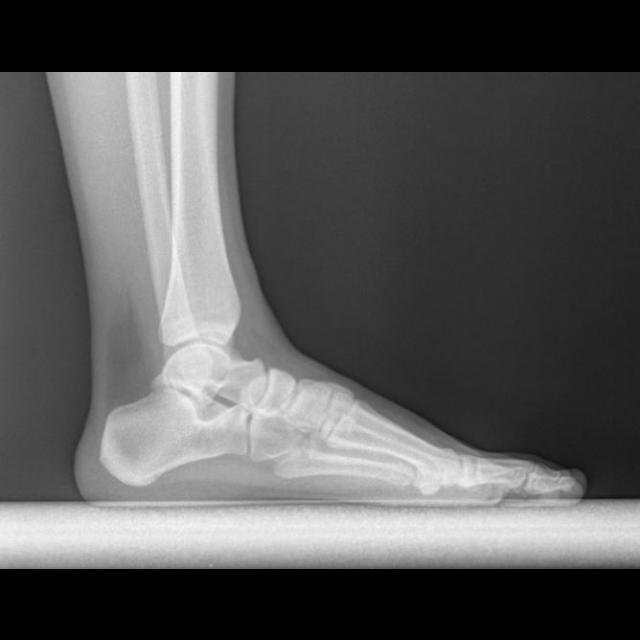a: (100, 384, 246, 485)
b: (254, 367, 296, 415)
c: (326, 396, 461, 498)
